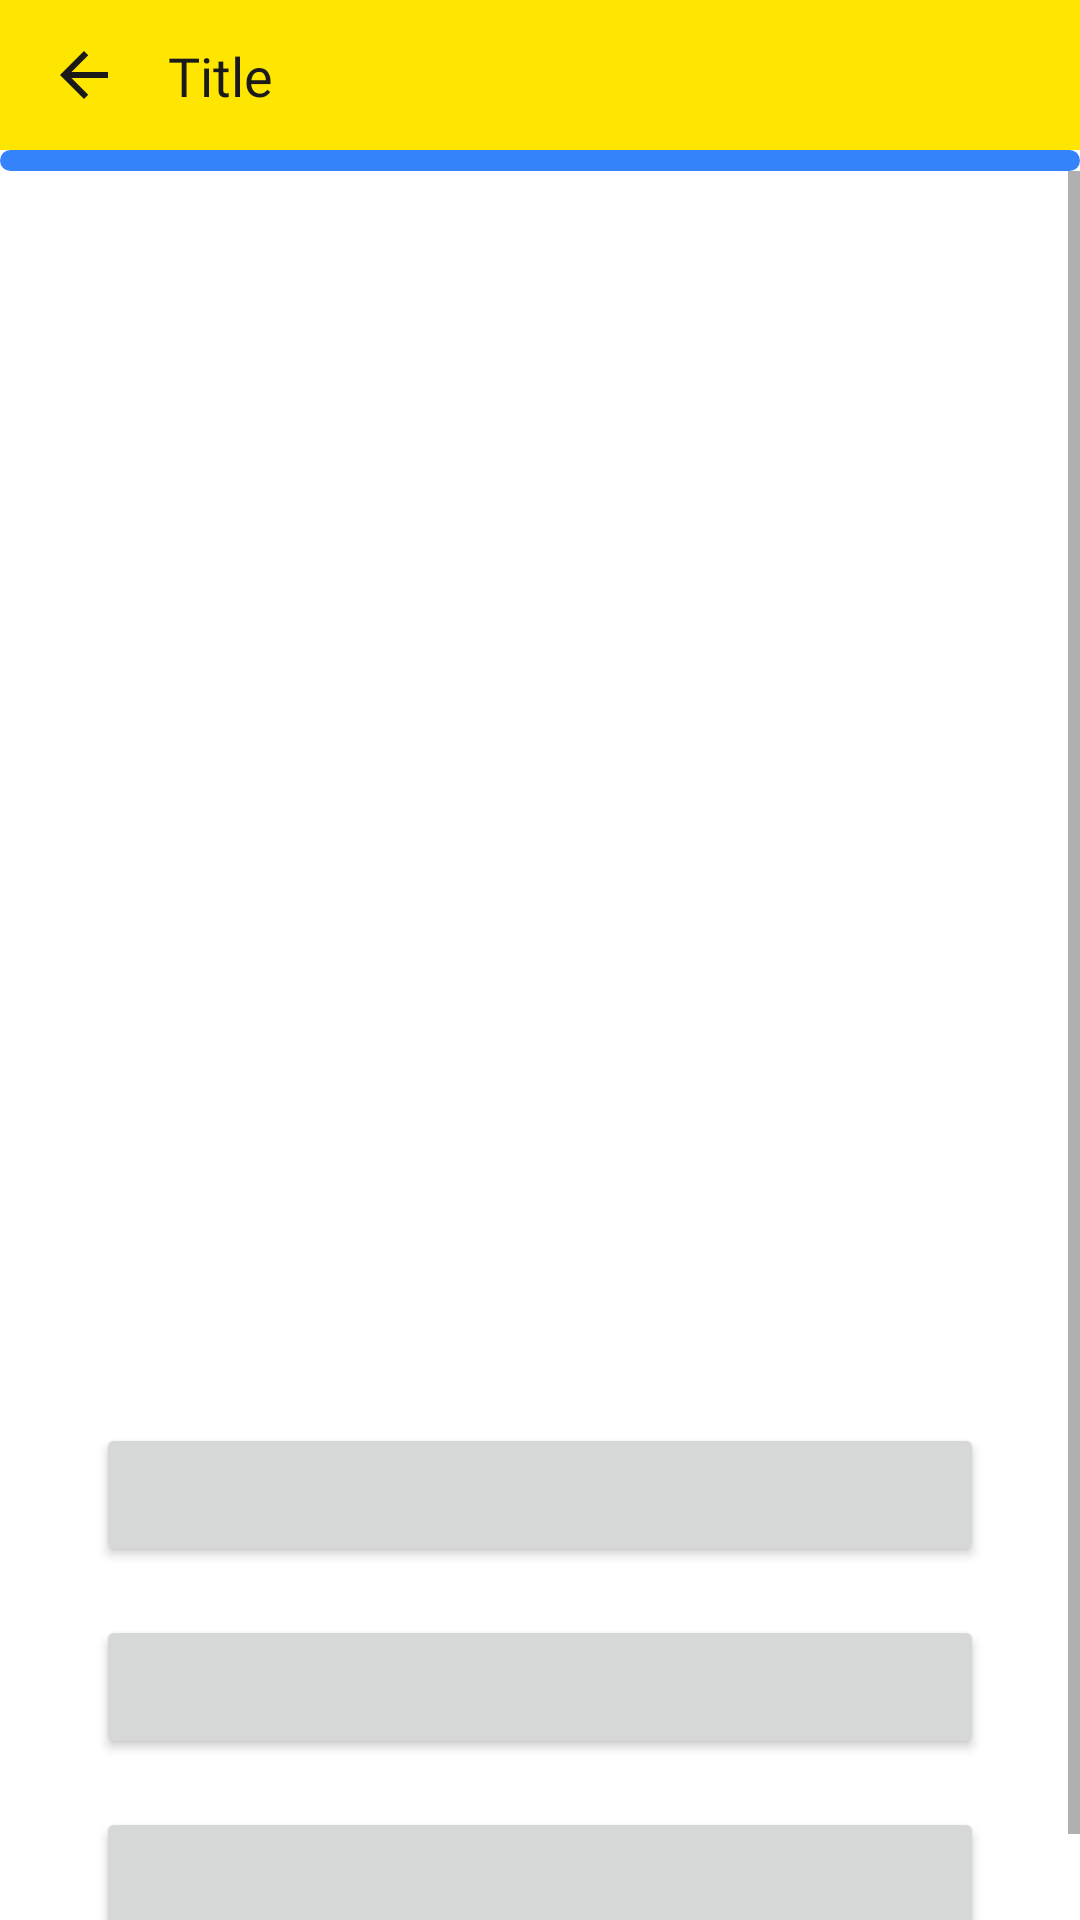

Screen size 1080*1920. Icon name, then its box in pixels as [x1, y1, x2, y2]:
arrow back: [60, 51, 108, 99]
